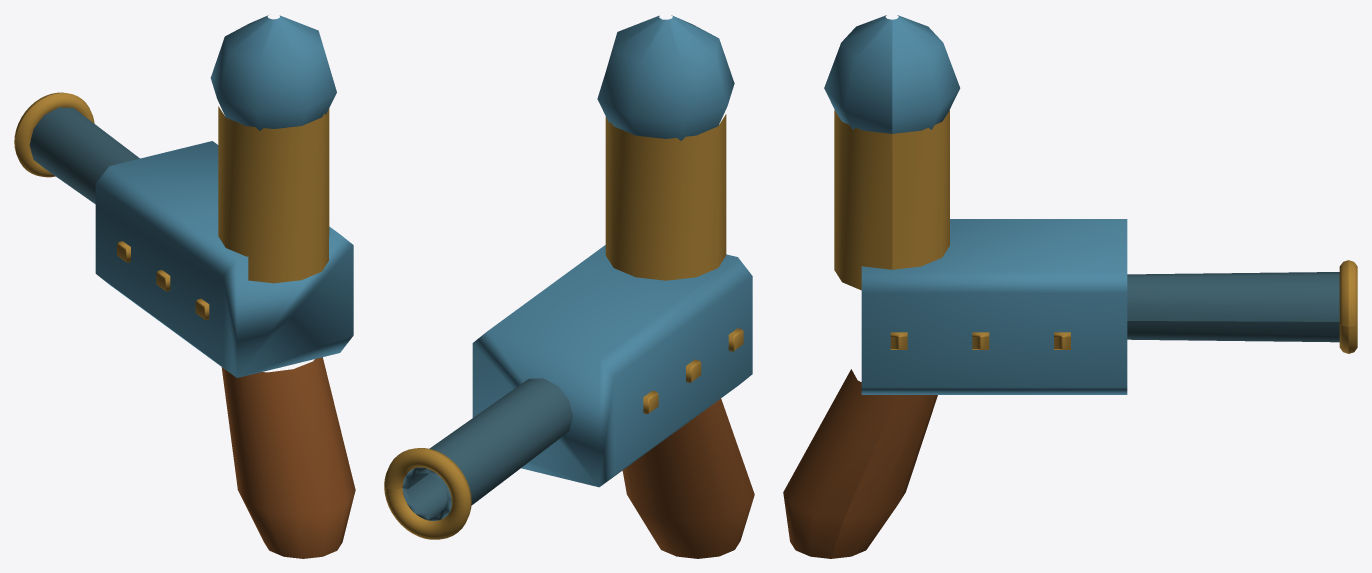
The model's file is weapon_ice.glb.
The picture shows the model from 3 angles, left to right: view 1: azimuth 30°, elevation 25°; view 2: azimuth 150°, elevation 25°; view 3: azimuth 270°, elevation 25°; orthographic projection. The views are drawn at different scales.
Parts seen in each view (by area): view 1: ShapedReceiver, Grip, Tank, TankCharge, HollowBarrel0, BarrelCuff0; view 2: ShapedReceiver, Tank, Grip, TankCharge, HollowBarrel0, BarrelCuff0; view 3: ShapedReceiver, Grip, Tank, HollowBarrel0, TankCharge, BarrelCuff0.
Part boxes in pixels (bbox=[...]): ShapedReceiver: bbox=[95, 141, 353, 377]; Grip: bbox=[221, 357, 355, 558]; Tank: bbox=[218, 106, 329, 283]; TankCharge: bbox=[210, 15, 336, 130]; HollowBarrel0: bbox=[29, 107, 139, 204]; BarrelCuff0: bbox=[14, 92, 94, 177]; ShapedReceiver: bbox=[472, 245, 752, 487]; Tank: bbox=[605, 114, 726, 280]; Grip: bbox=[622, 398, 754, 558]; TankCharge: bbox=[597, 15, 734, 140]; HollowBarrel0: bbox=[402, 378, 572, 520]; BarrelCuff0: bbox=[384, 448, 471, 539]; ShapedReceiver: bbox=[861, 219, 1127, 394]; Grip: bbox=[783, 369, 937, 558]; Tank: bbox=[834, 110, 949, 290]; HollowBarrel0: bbox=[1127, 272, 1339, 342]; TankCharge: bbox=[824, 15, 960, 133]; BarrelCuff0: bbox=[1339, 260, 1357, 353].
Size of the model in its own units: 0.25 by 0.85 by 0.8433.
